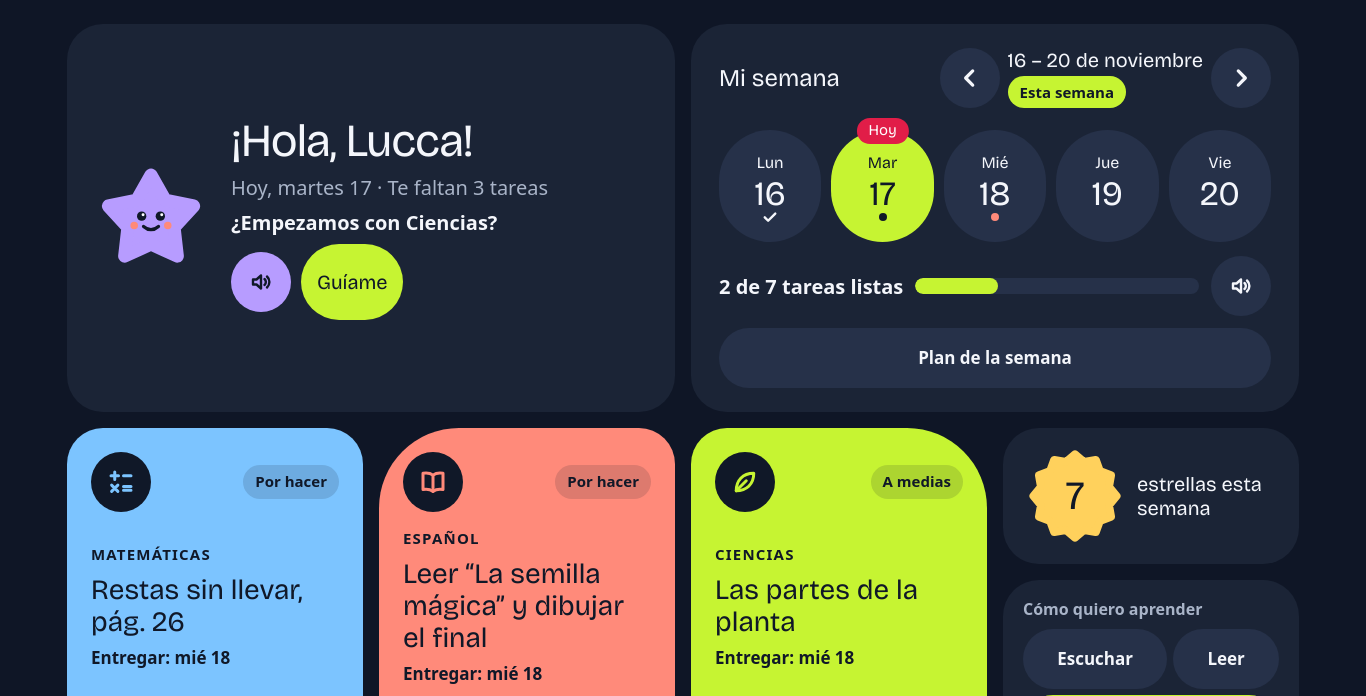
WeekScreen › shows the free-day message on a day without tasks
What coordinates should you click on to do the following:
click the button with aria-label "Jueves 19"
I would click on:
 (1107, 186)
Its box is [1056,130,1159,242].
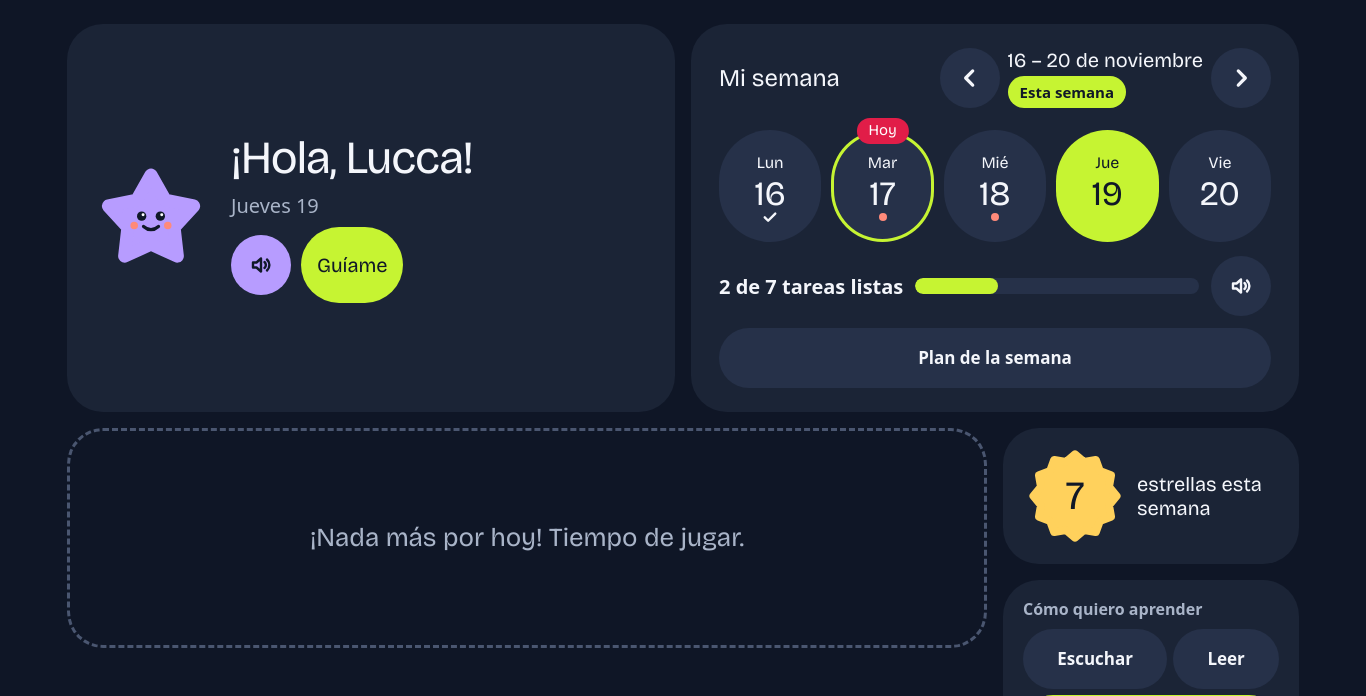
Result: the text "¡Nada más por hoy! Tiempo de jugar." is shown at [310,521,744,555]
